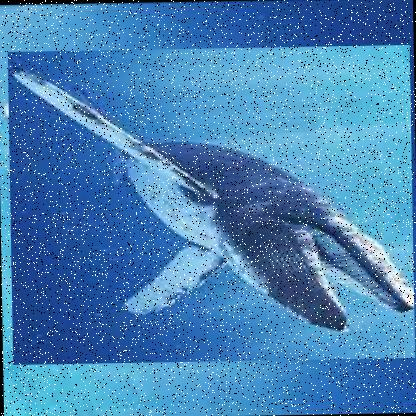blue_whale: (8, 43, 416, 364)
